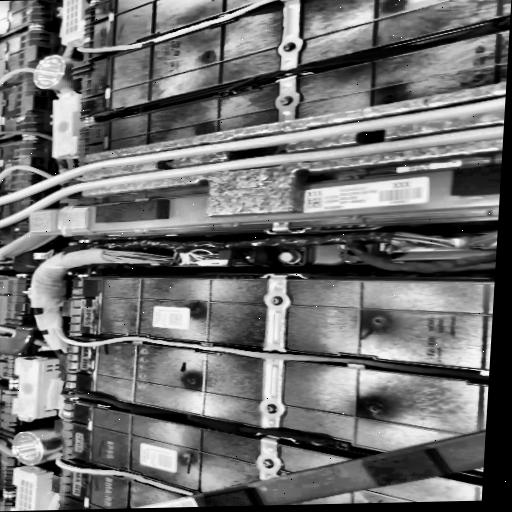high_volt_cable: (0, 248, 489, 506), (0, 89, 506, 204), (0, 122, 503, 232), (0, 0, 294, 164)
low_volt_cable: (82, 10, 511, 122), (74, 386, 354, 451), (34, 225, 497, 259)
nut: (260, 401, 284, 416), (276, 93, 295, 106), (268, 293, 286, 306), (278, 40, 297, 52), (256, 457, 275, 469)
